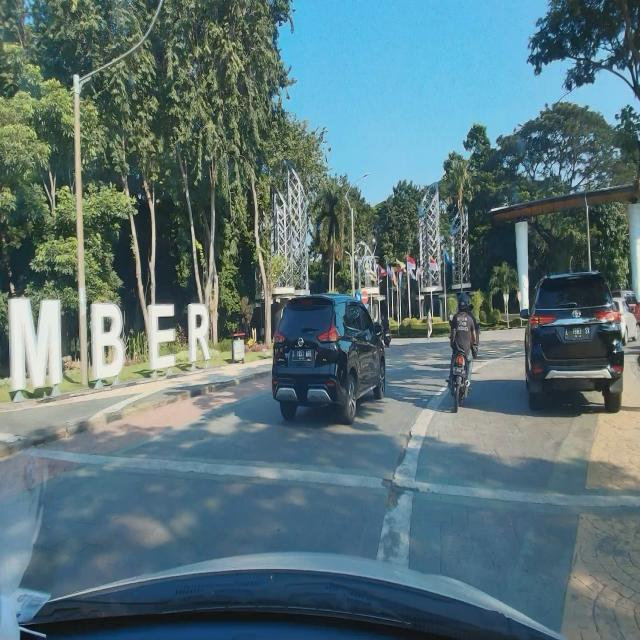car: (272, 291, 386, 426), (524, 269, 625, 414)
license-plate: (564, 325, 592, 340), (292, 348, 312, 362)
